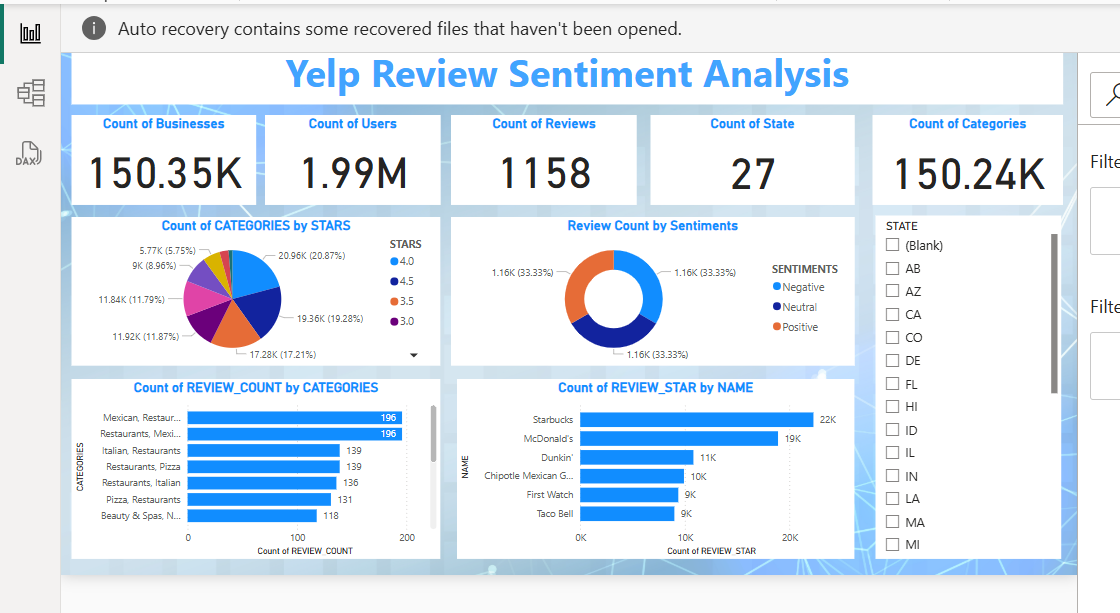

What the dashboard file says about the page in this screenshot:
{"tool":"powerbi","page":{"name":"Page 1","canvas":[1280,720],"ordinal":0},"visuals":[{"type":"barChart","fields":{"Y":["Count(TABL_YELP_BUSINESSES.REVIEW_COUNT)"],"Category":["TABL_YELP_BUSINESSES.CATEGORIES"]},"box":[13.2,472.4,464.9,226.8],"z":0},{"type":"barChart","fields":{"Category":["TABL_YELP_BUSINESSES.NAME"],"Y":["CountNonNull(TABL_YELP_REVIEWS.REVIEW_STAR)"]},"box":[498.9,472.4,485.7,226.8],"z":1000},{"type":"card","fields":{"Values":["Count(TABL_YELP_BUSINESSES.BUSINESS_ID)"]},"box":[13.2,139.8,232.4,113.4],"z":2000},{"type":"card","fields":{"Values":["Count(TABL_YELP_REVIEWS.USER_ID)"]},"box":[257,139.8,221.1,113.4],"z":3000},{"type":"card","fields":{"Values":["Count(TABL_YELP_BUSINESSES.REVIEW_COUNT)"]},"box":[491.3,139.8,234.3,113.4],"z":4000},{"type":"card","fields":{"Values":["Count(TABL_YELP_BUSINESSES.STATE)"]},"box":[742.7,139.8,257,113.4],"z":5000},{"type":"card","fields":{"Values":["CountNonNull(TABL_YELP_BUSINESSES.CATEGORIES)"]},"box":[1022.4,139.8,240,113.4],"z":5001},{"type":"textbox","box":[13.2,47.2,1249.1,79.4],"z":5002},{"type":"pieChart","fields":{"Y":["Count(TABL_YELP_BUSINESSES.CATEGORIES)"],"Category":["TABL_YELP_BUSINESSES.STARS"]},"box":[13.2,268.3,464.9,187.1],"z":5003}]}

Visuals, with their boxes on the page's 1280x720 design canvas (x1, y1, x2, y2). These are canvas units, not pixel positions in the 1120x613 screenshot, which may show the page scaled, cropped or inside an application window:
barChart - Count(TABL_YELP_BUSINESSES.REVIEW_COUNT) x TABL_YELP_BUSINESSES.CATEGORIES: [13,472,478,699]
barChart - TABL_YELP_BUSINESSES.NAME x CountNonNull(TABL_YELP_REVIEWS.REVIEW_STAR): [499,472,985,699]
card - Count(TABL_YELP_BUSINESSES.BUSINESS_ID): [13,140,246,253]
card - Count(TABL_YELP_REVIEWS.USER_ID): [257,140,478,253]
card - Count(TABL_YELP_BUSINESSES.REVIEW_COUNT): [491,140,726,253]
card - Count(TABL_YELP_BUSINESSES.STATE): [743,140,1000,253]
card - CountNonNull(TABL_YELP_BUSINESSES.CATEGORIES): [1022,140,1262,253]
textbox: [13,47,1262,127]
pieChart - Count(TABL_YELP_BUSINESSES.CATEGORIES) x TABL_YELP_BUSINESSES.STARS: [13,268,478,455]
